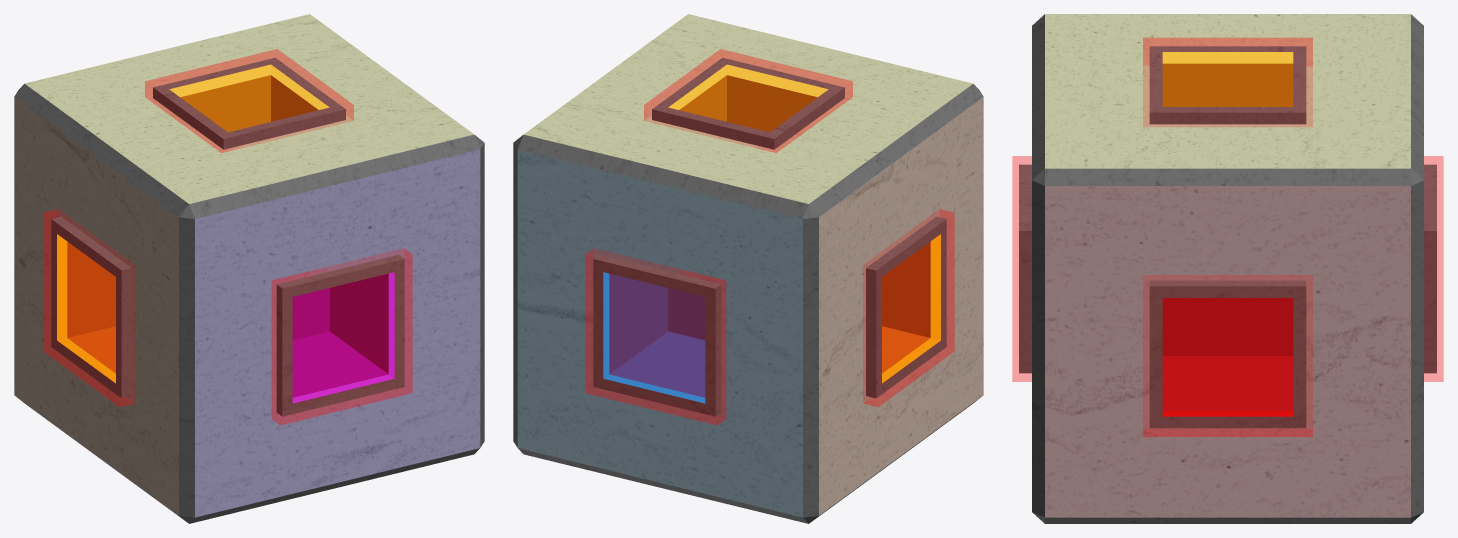
Rendered from Escape Cube.fbx.
3 views of the same model, side by side, from view 1: azimuth 30°, elevation 25°; view 2: azimuth 150°, elevation 25°; view 3: azimuth 270°, elevation 25° (orthographic). The views are drawn at different scales.
Parts seen in each view (by area): view 1: Cube, INT6, INT2, INT3; view 2: Cube, INT5, INT2, INT3; view 3: Cube, INT1, INT3, INT5, INT6.
Part boxes in pixels (x1=…): Cube: x1=14, y1=14, x2=484, y2=523; INT6: x1=272, y1=248, x2=412, y2=424; INT2: x1=43, y1=209, x2=134, y2=406; INT3: x1=145, y1=49, x2=353, y2=152; Cube: x1=513, y1=14, x2=983, y2=523; INT5: x1=585, y1=248, x2=725, y2=424; INT2: x1=863, y1=209, x2=954, y2=406; INT3: x1=644, y1=49, x2=852, y2=152; Cube: x1=1019, y1=14, x2=1436, y2=523; INT1: x1=1143, y1=275, x2=1312, y2=436; INT3: x1=1143, y1=38, x2=1312, y2=126; INT5: x1=1424, y1=156, x2=1443, y2=381; INT6: x1=1012, y1=156, x2=1031, y2=381.
Bounding box in the file's own units: 0.66 × 0.66 × 0.66.
